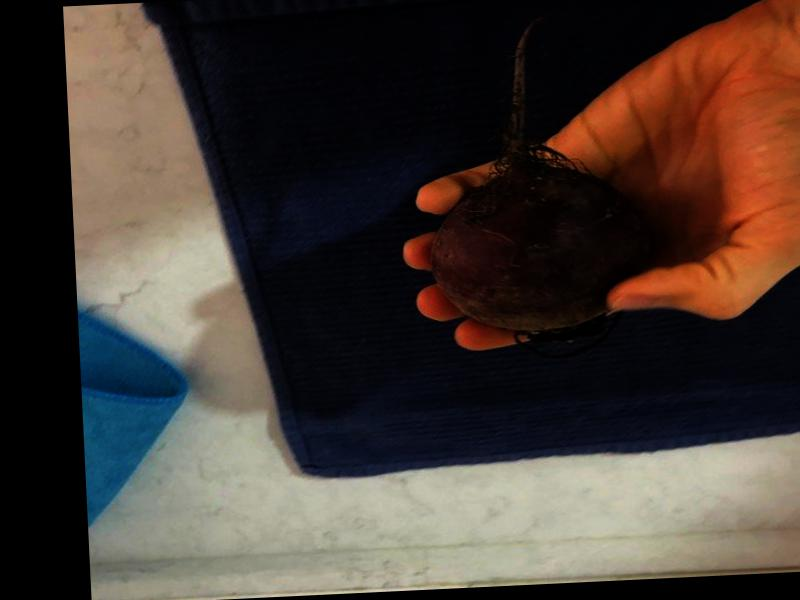Beet: (418, 11, 654, 363)
